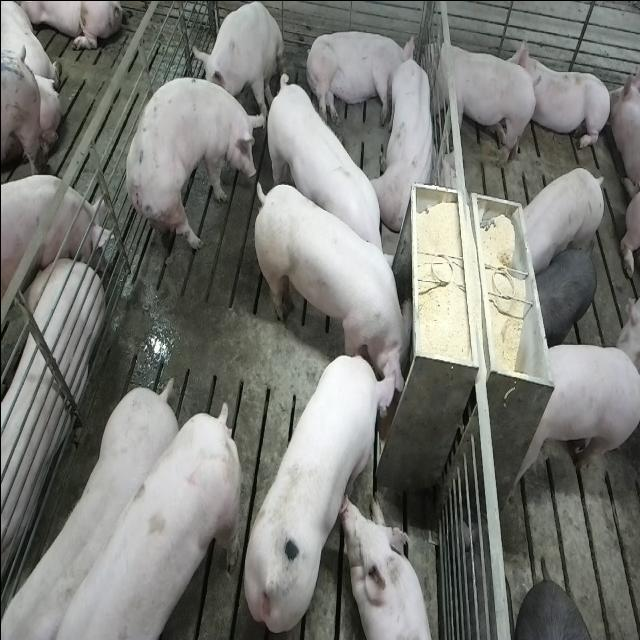Feeding: (238, 350, 402, 634), (256, 176, 420, 400)
Lateral_lying: (0, 254, 101, 592), (303, 28, 415, 128)
Sitting: (192, 1, 287, 130)
Standing: (3, 380, 184, 640), (261, 66, 394, 288), (118, 76, 255, 266), (510, 342, 640, 502), (423, 32, 538, 168), (0, 172, 107, 304), (514, 166, 604, 276), (532, 241, 596, 344)
Sternal_lying: (344, 493, 434, 640), (373, 49, 438, 233), (514, 34, 612, 153)
